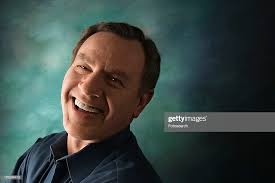white_male: (55, 37, 139, 132)
